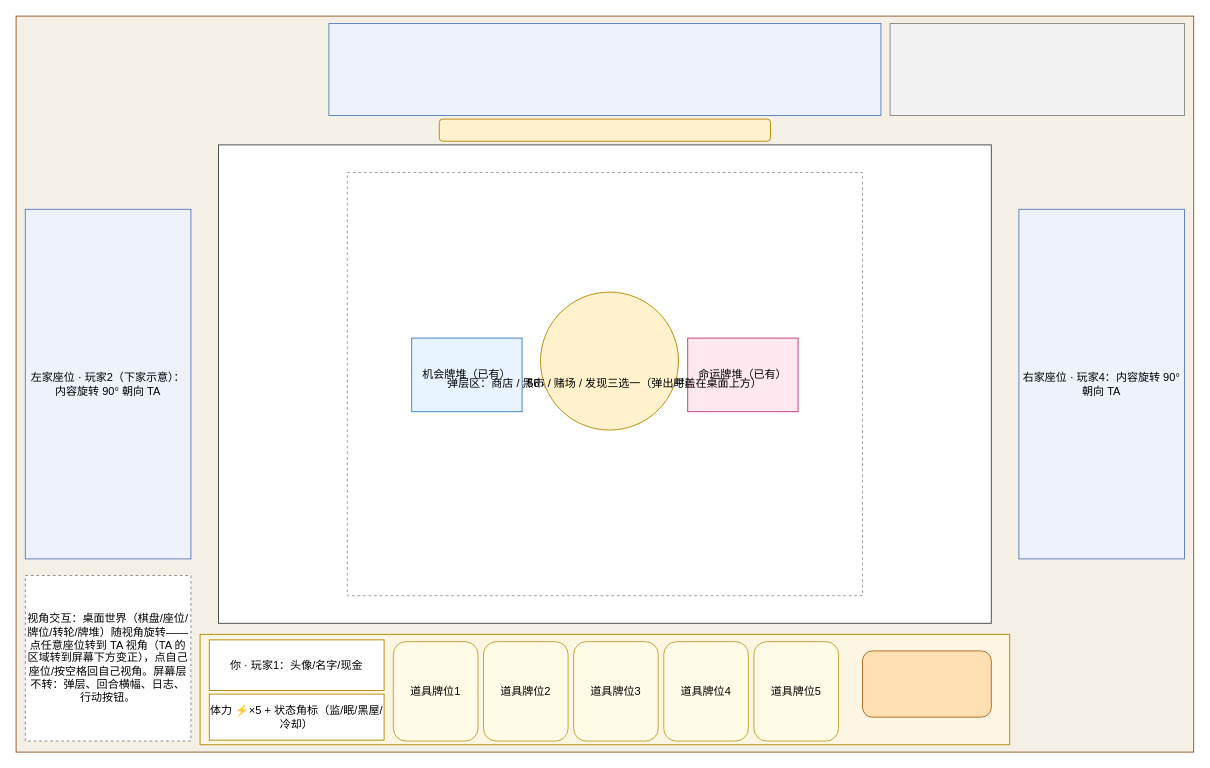
Image size: 1210x768. Some labels were removed from this diagram. The shapes that lost their labels are listed below. From the top down, each one's centre as x and y in pixels, then its label:
At point 604,69: "上家座位 · 玩家3：内容按 TA 视角排版（我看是倒的）头像/名字/现金/⚡/状态 + 牌位×5".
At point 1036,69: "日志 / 聊天（可折叠）".
At point 604,129: "当前回合横幅（现有元素迁移）".
At point 609,360: "转轮（已有）".
At point 926,683: "行动按钮：掷轮 / 使用道具".
